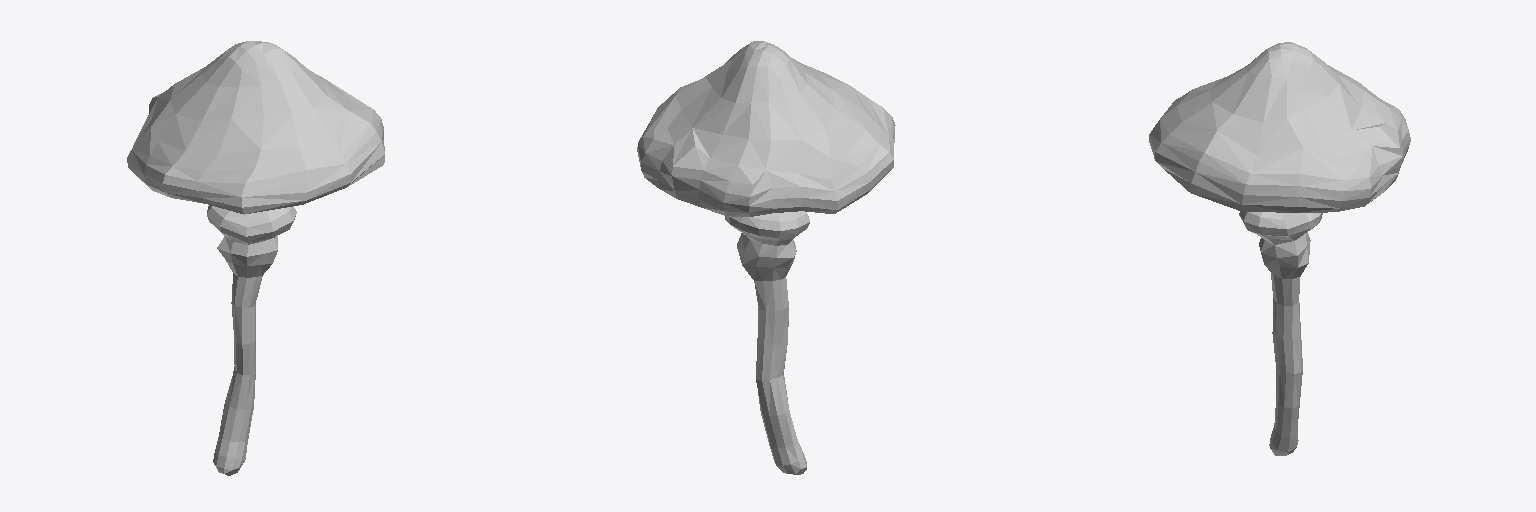
Rendered from Mushroom_biggy_low.obj.
3 views of the same model, side by side, from view 1: azimuth 30°, elevation 25°; view 2: azimuth 150°, elevation 25°; view 3: azimuth 270°, elevation 25° (orthographic).
Visible parts, largest first — view 1: Group26353; view 2: Group26353; view 3: Group26353.
Boxes of the visible parts, x1,y1,x2,y2 form: Group26353: [127, 41, 384, 475]; Group26353: [637, 41, 895, 474]; Group26353: [1149, 42, 1410, 455].
Bounding box in the file's own units: 0.6222 × 1.14 × 0.644.